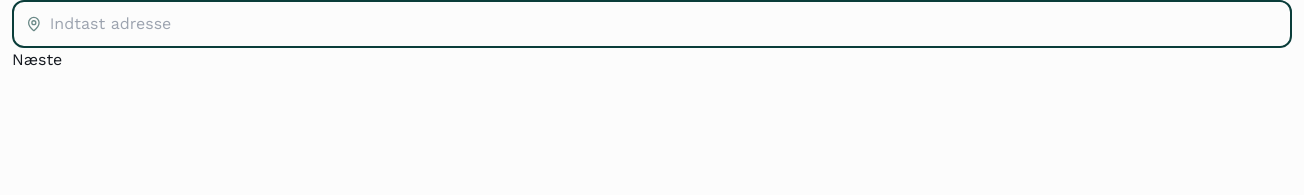
Test: Booking flow gate — DAWA validation is required › re-locks Next if the user edits the address after picking
In the dropdown with placeholder "Indtast adresse": [664, 24] box [50,12,1278,36], type "Frederiksberg Al"
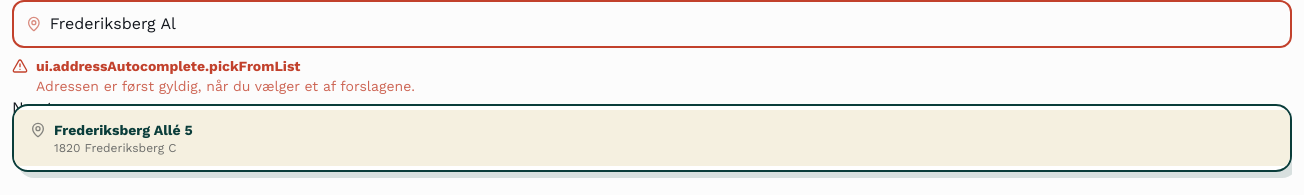
Click the button "Frederiksberg Allé 5 1820 Frederiksberg C": [123, 130] box [14,110,1290,166]
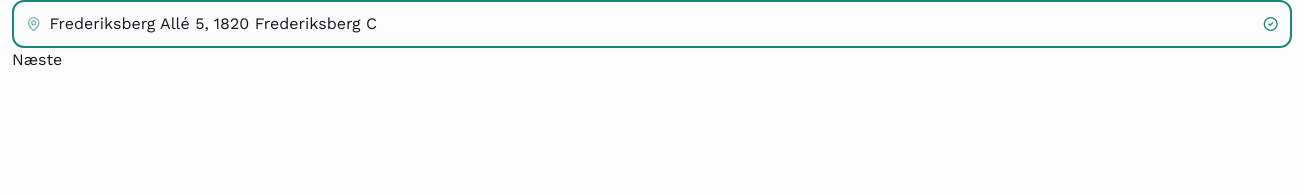
Expected: the button with test id "next" is enabled, [12,48,62,72]
Replace the text in the dropdown with placeholder "Indtast adresse" with "Frederiksberg Allé 5 (etage 3)": [652, 24] box [49,12,1255,36]
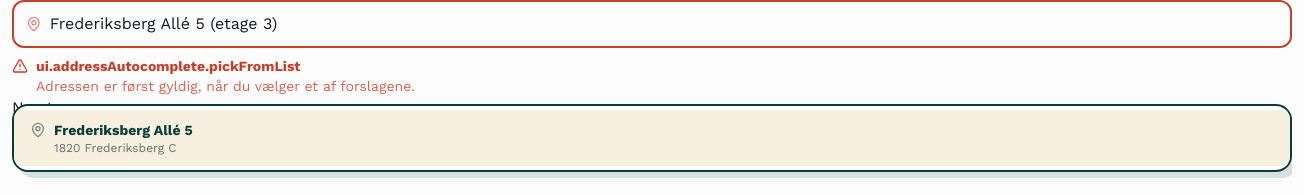
Expected: the button with test id "next" is disabled, [12,96,62,120]
